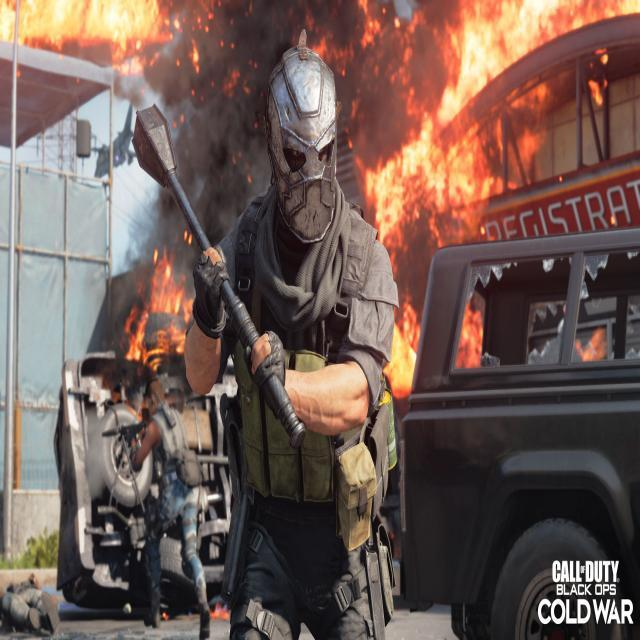mace: (132, 105, 299, 435)
